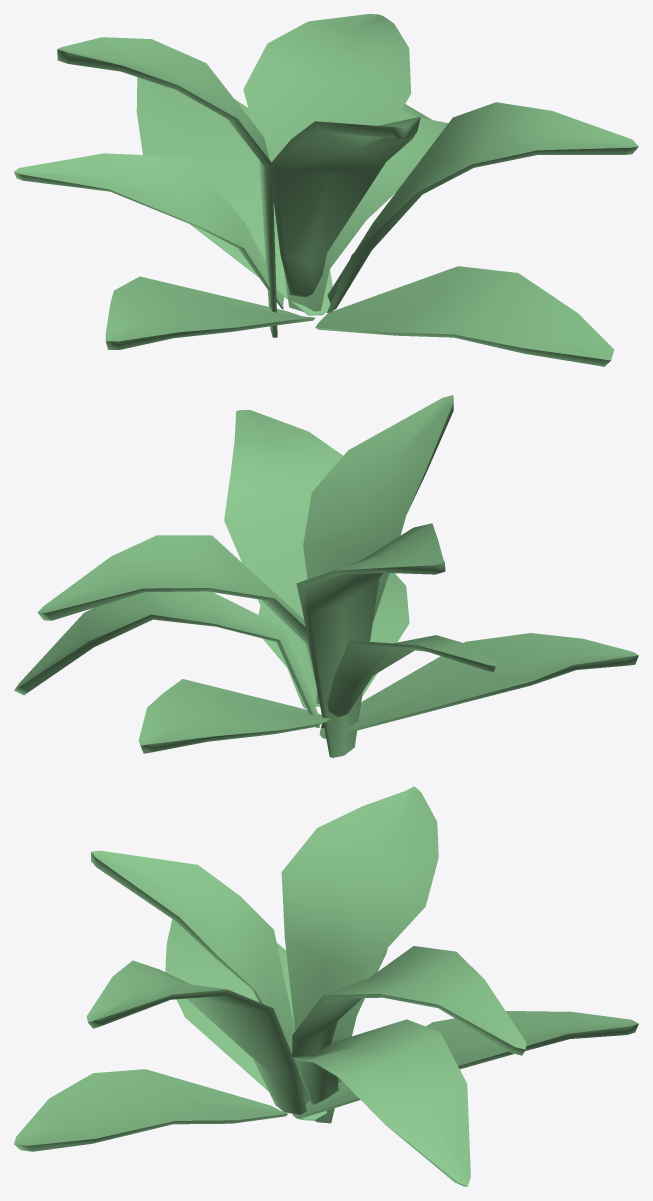
The model's file is Bush 03.glb.
3 renders of one model, top to bottom at view 1: azimuth 30°, elevation 25°; view 2: azimuth 150°, elevation 25°; view 3: azimuth 270°, elevation 25°, orthographic. The views are drawn at different scales.
Visible parts, largest first — view 1: Bush 03; view 2: Bush 03; view 3: Bush 03.
Part boxes in pixels (x1,y1,x2,y2): Bush 03: [14, 14, 638, 366]; Bush 03: [14, 395, 638, 757]; Bush 03: [14, 786, 638, 1186].
Size of the model in its own units: 2.46 by 1.35 by 2.81.
